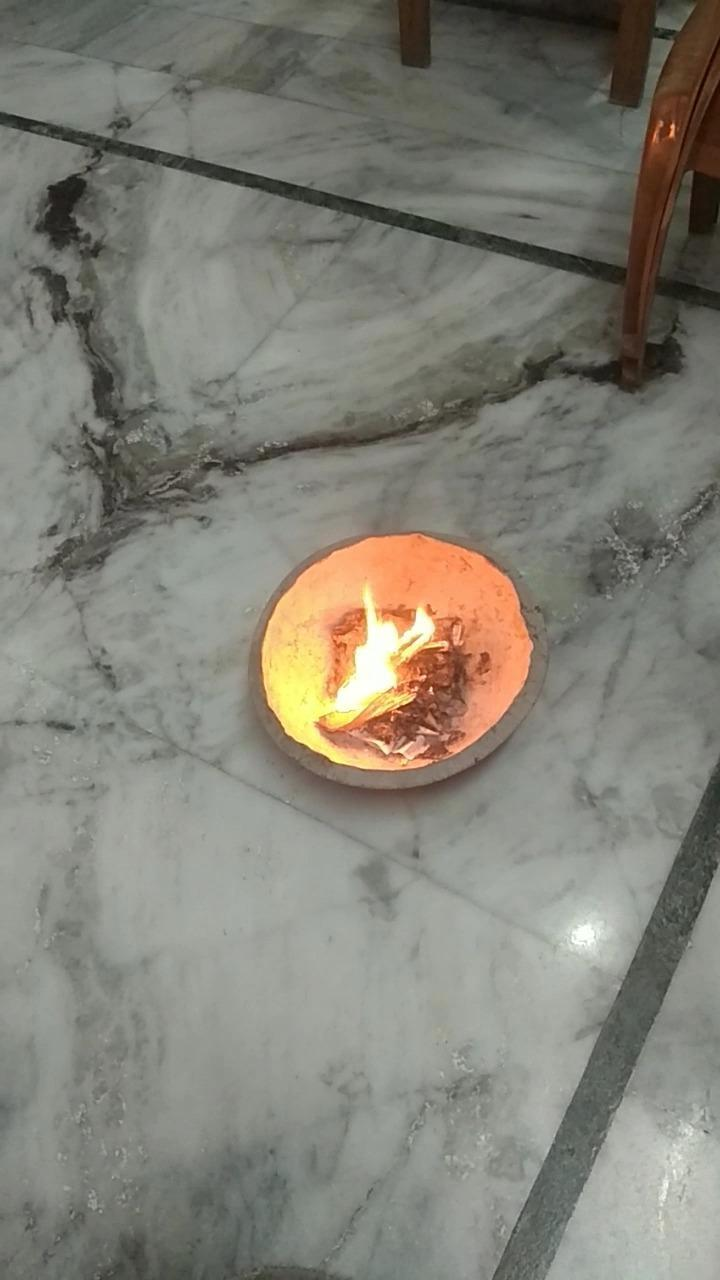fire: (321, 568, 444, 728)
